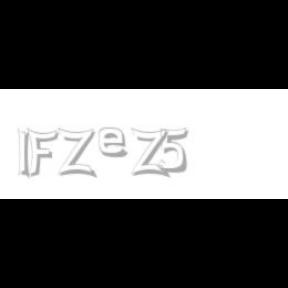5: (158, 128, 188, 174)
F: (26, 128, 58, 178)
Z: (58, 128, 94, 178), (132, 128, 168, 178)
e: (98, 128, 132, 158)
l: (17, 128, 33, 180)
